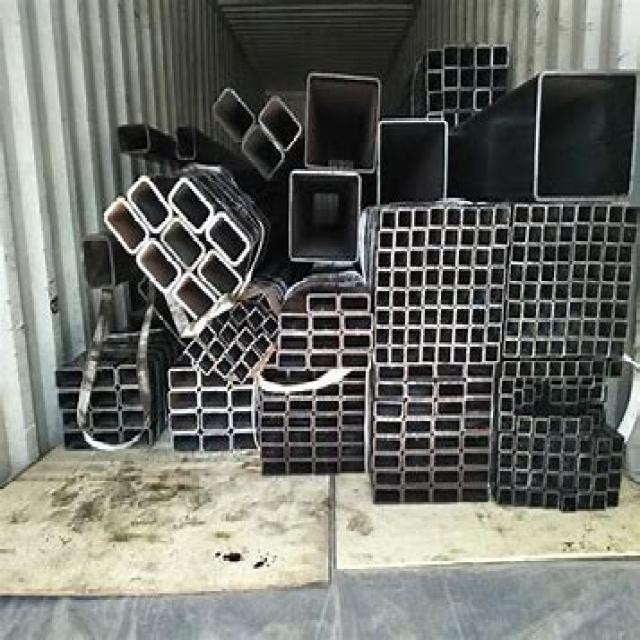pipe: (536, 71, 637, 199), (306, 75, 379, 172), (290, 173, 359, 260), (379, 122, 446, 205), (129, 176, 171, 233), (170, 178, 212, 233), (105, 198, 147, 253), (213, 88, 255, 143), (162, 218, 204, 272), (199, 250, 242, 302), (259, 98, 300, 152), (242, 126, 283, 179), (138, 241, 180, 292), (207, 213, 249, 264), (175, 273, 215, 322), (84, 238, 113, 288), (117, 125, 149, 152), (117, 363, 148, 389), (169, 389, 199, 412), (170, 368, 200, 390), (55, 369, 85, 391), (88, 367, 116, 390), (61, 410, 89, 432), (168, 414, 200, 433), (307, 293, 337, 313), (177, 126, 194, 160), (278, 334, 310, 351), (279, 314, 309, 332), (342, 313, 372, 331), (311, 333, 341, 351), (173, 434, 200, 454), (231, 409, 254, 432), (229, 386, 253, 408), (311, 314, 340, 332), (340, 294, 369, 312), (202, 434, 231, 452), (344, 333, 371, 352), (58, 392, 88, 409), (89, 391, 117, 409), (90, 410, 118, 428), (185, 338, 205, 363), (310, 353, 339, 370), (122, 430, 151, 447), (202, 413, 229, 431), (64, 433, 91, 451), (277, 352, 307, 368), (373, 488, 401, 505), (436, 400, 464, 417), (464, 417, 492, 434), (122, 409, 147, 428), (219, 321, 237, 347), (404, 487, 431, 504), (375, 401, 402, 418), (467, 364, 494, 381), (200, 391, 227, 408), (92, 432, 119, 449), (215, 356, 234, 380), (233, 431, 258, 449), (233, 358, 251, 383), (248, 307, 266, 332), (405, 400, 433, 416), (342, 353, 370, 369), (463, 468, 489, 485), (433, 452, 459, 469), (199, 324, 216, 350), (404, 453, 431, 469), (465, 398, 492, 414), (463, 434, 490, 450), (261, 366, 288, 382), (237, 328, 255, 352), (433, 486, 458, 503), (434, 433, 459, 450), (315, 397, 340, 414), (230, 301, 247, 326), (120, 389, 142, 408), (463, 451, 489, 467), (404, 435, 430, 451), (374, 436, 400, 452), (376, 383, 402, 399), (407, 363, 433, 379), (254, 333, 272, 356), (199, 353, 216, 377), (377, 365, 404, 380), (342, 382, 365, 399), (227, 340, 244, 363), (463, 487, 489, 502), (375, 470, 401, 485), (407, 383, 433, 398), (438, 383, 464, 398), (444, 44, 460, 68), (373, 454, 400, 468), (437, 364, 464, 378), (376, 420, 401, 435), (243, 347, 260, 369), (208, 339, 225, 361), (493, 44, 510, 66), (262, 316, 278, 339), (405, 418, 431, 432), (261, 430, 285, 445), (476, 68, 492, 90), (467, 383, 492, 397), (435, 418, 460, 432), (262, 461, 287, 475), (315, 415, 338, 430), (460, 46, 475, 69), (314, 462, 340, 475), (316, 370, 340, 384), (261, 446, 285, 460), (289, 460, 313, 474), (288, 415, 312, 429), (428, 51, 444, 72), (341, 445, 363, 460), (476, 46, 491, 68), (290, 370, 315, 383), (261, 415, 286, 428), (341, 400, 364, 414), (289, 399, 312, 413), (613, 320, 629, 340), (413, 209, 429, 229), (458, 91, 474, 111), (405, 470, 429, 483), (262, 400, 286, 413), (289, 446, 313, 459), (610, 204, 624, 226), (594, 204, 609, 224), (378, 231, 393, 251), (428, 92, 443, 112), (315, 446, 338, 459), (316, 385, 339, 398), (289, 431, 312, 444), (562, 453, 576, 474), (447, 207, 461, 228), (463, 208, 477, 229), (577, 206, 594, 223), (434, 471, 458, 483), (315, 432, 339, 444), (289, 387, 315, 398), (515, 205, 530, 224), (586, 263, 601, 282), (380, 210, 395, 229), (397, 209, 412, 228), (479, 209, 494, 228), (474, 248, 489, 267), (580, 416, 594, 436), (610, 358, 624, 378), (625, 206, 639, 226), (342, 430, 362, 444), (493, 68, 507, 88), (444, 90, 457, 111), (500, 414, 515, 432), (543, 225, 558, 243), (560, 224, 575, 242), (424, 269, 439, 287), (395, 230, 410, 248), (461, 229, 476, 247), (443, 229, 458, 247), (374, 309, 389, 327), (476, 92, 491, 110), (428, 73, 443, 91), (515, 488, 529, 507), (565, 386, 579, 405), (575, 243, 589, 262), (496, 208, 510, 227), (426, 248, 440, 267), (407, 328, 421, 347), (341, 461, 365, 472), (551, 385, 564, 405), (619, 244, 632, 264), (564, 419, 579, 436), (563, 437, 578, 454), (561, 494, 576, 511), (515, 454, 530, 471), (576, 224, 591, 241), (411, 230, 426, 247), (477, 229, 492, 246), (423, 327, 438, 344), (499, 433, 513, 451), (530, 491, 544, 509), (390, 346, 404, 364), (513, 225, 527, 243), (494, 229, 508, 247), (492, 248, 506, 266), (460, 69, 474, 87), (342, 371, 367, 381), (597, 339, 610, 358), (612, 339, 625, 358), (599, 319, 612, 338), (583, 318, 596, 337), (508, 301, 521, 320), (562, 205, 575, 224), (618, 265, 631, 284), (210, 315, 223, 334), (445, 70, 458, 89), (550, 416, 562, 436), (598, 438, 610, 458), (600, 284, 615, 300), (262, 389, 286, 399), (499, 452, 513, 469), (500, 396, 514, 413), (612, 437, 626, 454), (437, 346, 451, 363), (536, 340, 550, 357), (505, 321, 519, 338), (528, 226, 542, 243), (592, 226, 606, 243), (589, 245, 603, 262), (584, 301, 598, 318), (537, 322, 551, 339), (553, 321, 567, 338), (522, 322, 536, 339), (376, 291, 390, 308), (441, 269, 455, 286), (458, 269, 472, 286), (490, 269, 504, 286), (489, 307, 503, 324), (424, 308, 438, 325), (395, 252, 409, 269), (458, 250, 472, 267), (439, 327, 453, 344), (375, 328, 389, 345), (535, 418, 548, 436), (550, 360, 563, 378), (592, 382, 605, 400), (454, 345, 467, 363), (470, 345, 483, 363), (505, 340, 518, 358), (520, 339, 533, 357), (608, 226, 621, 244), (605, 245, 618, 263), (571, 281, 584, 299), (392, 290, 405, 308), (409, 271, 422, 289), (473, 288, 486, 306), (410, 250, 423, 268), (431, 209, 444, 227), (342, 415, 363, 426), (609, 472, 621, 491), (499, 470, 513, 486), (518, 418, 532, 434), (597, 458, 611, 474), (375, 347, 389, 363), (510, 265, 524, 281), (585, 283, 599, 299), (377, 271, 391, 287), (501, 378, 514, 395), (546, 492, 559, 509), (535, 361, 548, 378), (566, 338, 579, 355), (512, 245, 525, 262), (532, 206, 545, 223), (547, 205, 560, 222), (624, 227, 637, 244), (616, 285, 629, 302), (603, 264, 616, 281), (572, 264, 585, 281), (554, 302, 567, 319), (475, 269, 488, 286), (471, 327, 484, 344), (472, 308, 485, 325), (457, 288, 470, 305), (440, 309, 453, 326), (443, 249, 456, 266), (392, 329, 405, 346), (580, 456, 592, 474), (548, 455, 560, 473), (552, 338, 564, 356), (556, 282, 568, 300), (488, 326, 500, 344), (457, 308, 469, 326), (260, 294, 272, 312), (578, 495, 592, 510), (539, 304, 553, 319), (408, 291, 422, 306), (424, 290, 438, 305), (580, 475, 591, 494), (523, 386, 534, 405), (499, 489, 512, 505), (546, 474, 559, 490), (549, 438, 562, 454), (517, 435, 530, 451), (422, 347, 435, 363), (486, 345, 499, 361), (582, 340, 595, 356), (543, 245, 556, 261), (616, 303, 629, 319), (541, 264, 554, 280), (600, 302, 613, 318), (377, 252, 390, 268), (393, 271, 406, 287), (490, 289, 503, 305), (441, 289, 454, 305), (428, 229, 441, 245), (528, 245, 540, 262), (557, 264, 569, 281), (558, 244, 570, 261), (568, 319, 580, 336), (594, 359, 605, 377), (570, 301, 581, 319), (580, 439, 594, 453), (391, 312, 405, 326), (606, 491, 619, 506), (531, 454, 544, 469), (520, 361, 533, 376), (579, 361, 592, 376), (509, 283, 522, 298), (525, 265, 538, 280), (540, 286, 553, 301), (524, 303, 537, 318), (408, 310, 421, 325), (595, 475, 607, 491), (563, 475, 575, 491), (533, 437, 545, 453), (564, 361, 576, 377), (505, 361, 516, 378), (593, 493, 604, 510), (455, 329, 468, 343), (493, 89, 506, 103), (407, 347, 419, 362), (524, 285, 536, 300), (533, 473, 544, 489), (516, 472, 528, 486), (612, 457, 623, 472), (579, 387, 588, 401), (516, 390, 523, 407), (516, 377, 524, 388), (526, 377, 533, 387)
